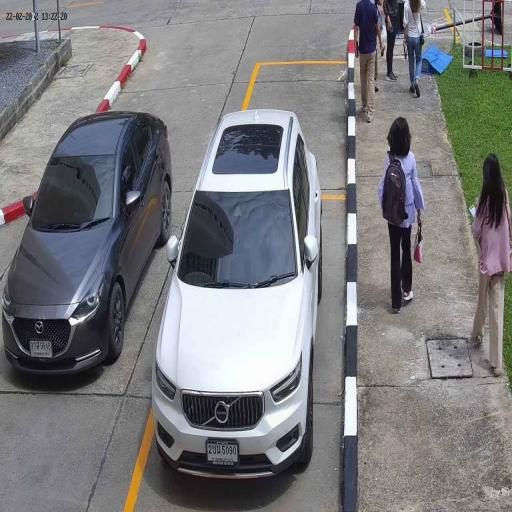car: (152, 104, 324, 493), (0, 106, 174, 381)
